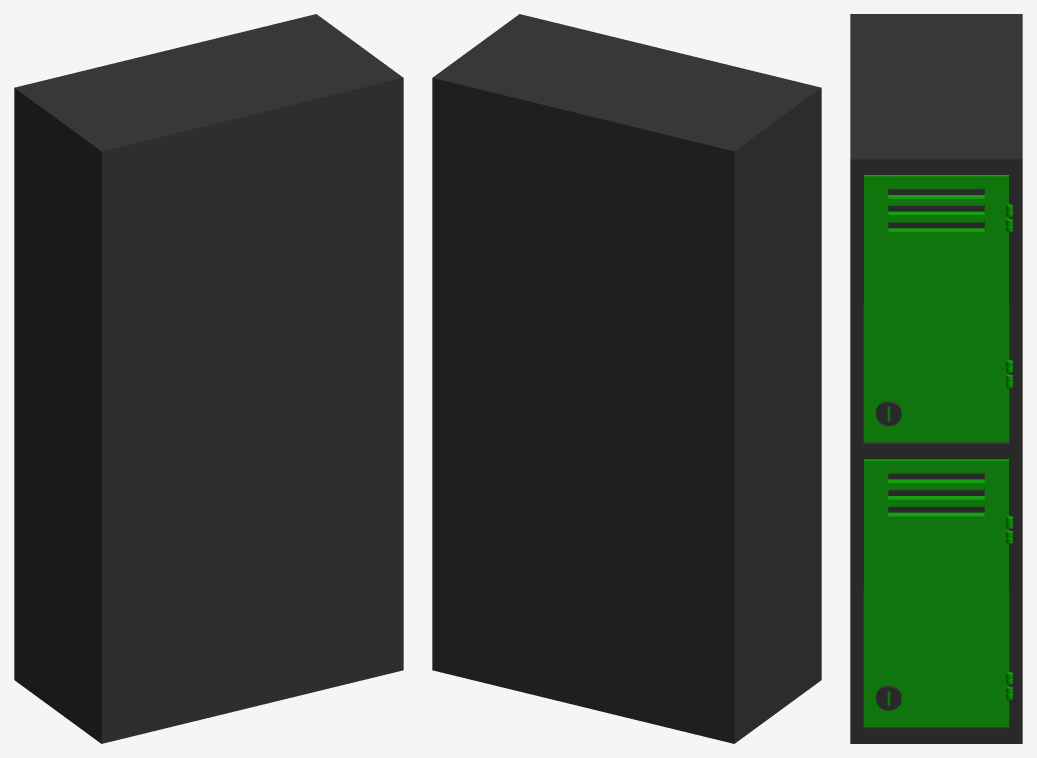
File: Locker.fbx
The picture shows the model from 3 angles, left to right: view 1: azimuth 30°, elevation 25°; view 2: azimuth 150°, elevation 25°; view 3: azimuth 270°, elevation 25°; orthographic projection.
Parts seen in each view (by area): view 1: Left Wall, Back wall, top, Right Wall; view 2: Right Wall, Back wall, top, Left Wall; view 3: bottom door.001, top door, top, Left Wall, Right Wall, Back wall, middle, bottom, bottom key circle.001, top key circle.
Boxes of the visible parts, <box> form: Left Wall: <box>107,73,403,740</box>; Back wall: <box>14,85,112,743</box>; top: <box>32,19,396,143</box>; Right Wall: <box>26,14,322,89</box>; Right Wall: <box>432,73,728,740</box>; Back wall: <box>723,85,821,743</box>; top: <box>439,19,803,143</box>; Left Wall: <box>513,14,809,89</box>; bottom door.001: <box>864,459,1008,726</box>; top door: <box>864,175,1008,442</box>; top: <box>863,19,1009,174</box>; Left Wall: <box>850,19,863,743</box>; Right Wall: <box>1009,19,1022,743</box>; Back wall: <box>850,14,1022,588</box>; middle: <box>863,304,1009,459</box>; bottom: <box>863,588,1009,743</box>; bottom key circle.001: <box>876,685,901,710</box>; top key circle: <box>876,401,901,426</box>.
Bounding box in the file's own units: 810 × 1500 × 400.
